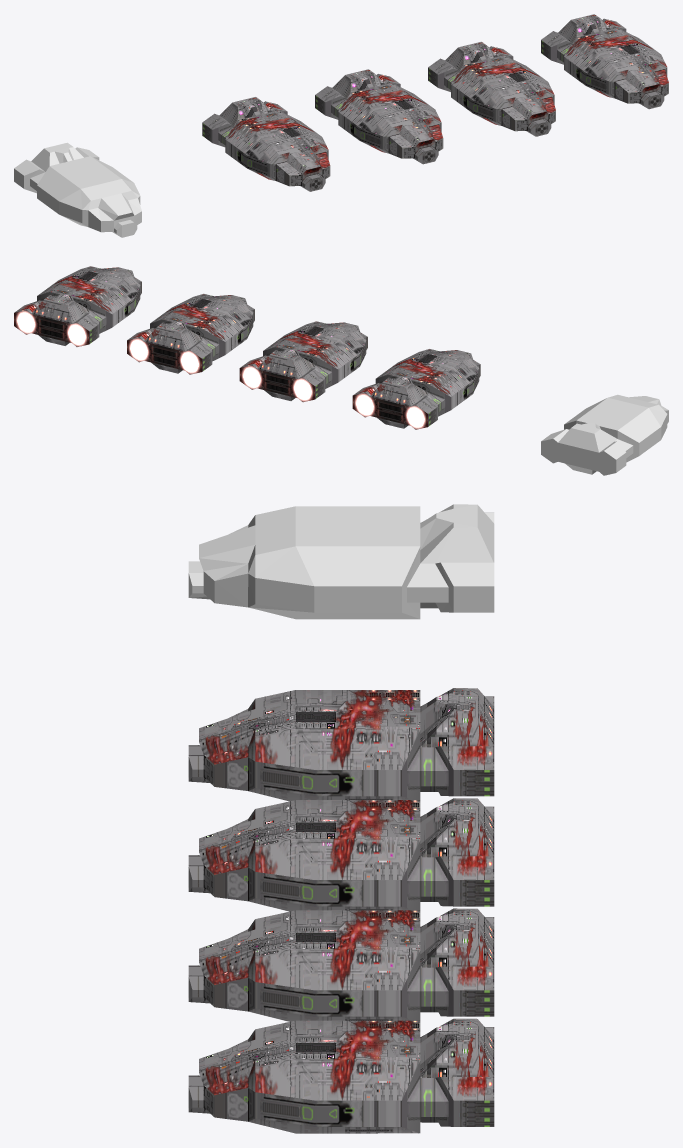
File: hgn_bst_interceptor.dae
3 views of the same model, one above another, from view 1: azimuth 30°, elevation 25°; view 2: azimuth 150°, elevation 25°; view 3: azimuth 270°, elevation 25° (orthographic). The views are drawn at different scales.
Parts seen in each view (by area): view 1: MULT[root_mesh]_LOD[1], MULT[root_mesh]_LOD[0], MULT[root_mesh]_LOD[3], COL[Root], MULT[root_mesh]_LOD[2]; view 2: MULT[root_mesh]_LOD[0], MULT[root_mesh]_LOD[1], MULT[root_mesh]_LOD[3], MULT[root_mesh]_LOD[2], COL[Root]; view 3: COL[Root], MULT[root_mesh]_LOD[3], MULT[root_mesh]_LOD[2], MULT[root_mesh]_LOD[1], MULT[root_mesh]_LOD[0].
Boxes of the visible parts, x1,y1,x2,y2 form: MULT[root_mesh]_LOD[1]: (315,69,443,164); MULT[root_mesh]_LOD[0]: (202,97,330,191); MULT[root_mesh]_LOD[3]: (541,14,668,109); COL[Root]: (14,142,141,237); MULT[root_mesh]_LOD[2]: (428,41,555,136); MULT[root_mesh]_LOD[0]: (352,349,480,429); MULT[root_mesh]_LOD[1]: (239,321,367,402); MULT[root_mesh]_LOD[3]: (14,266,141,346); MULT[root_mesh]_LOD[2]: (127,293,254,374); COL[Root]: (541,394,668,475); COL[Root]: (188,504,494,619); MULT[root_mesh]_LOD[3]: (188,1018,494,1133); MULT[root_mesh]_LOD[2]: (188,908,494,1021); MULT[root_mesh]_LOD[1]: (188,798,494,911); MULT[root_mesh]_LOD[0]: (188,688,494,801).
Size of the model in its own units: 110 by 7.3 by 24.15.
